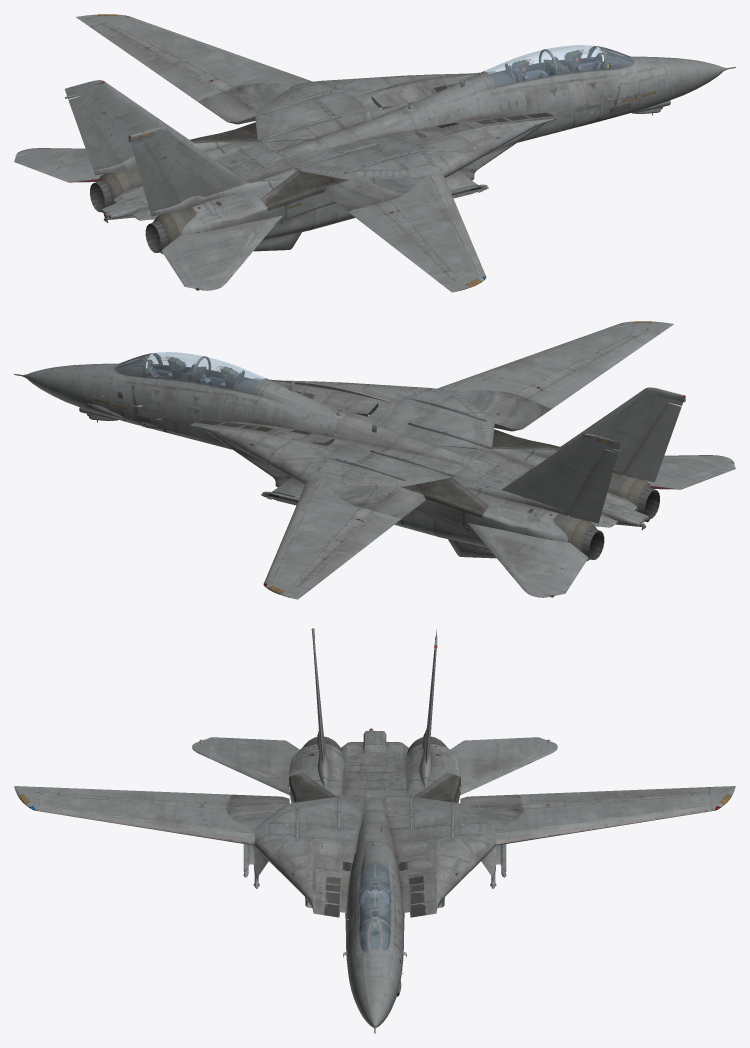
3 views of the same model, one above another, from view 1: azimuth 30°, elevation 25°; view 2: azimuth 150°, elevation 25°; view 3: azimuth 270°, elevation 25° (orthographic). The views are drawn at different scales.
Visible parts, largest first — view 1: Object_4, Object_6, Object_8; view 2: Object_4, Object_6, Object_8; view 3: Object_4, Object_8, Object_6.
Part boxes in pixels (left/top/right/bottom): Object_4: left=14, top=14, right=735, bottom=292; Object_6: left=484, top=45, right=633, bottom=86; Object_8: left=488, top=46, right=633, bottom=86; Object_4: left=14, top=321, right=735, bottom=599; Object_6: left=116, top=352, right=265, bottom=393; Object_8: left=116, top=353, right=261, bottom=393; Object_4: left=14, top=628, right=735, bottom=1033; Object_8: left=358, top=864, right=391, bottom=950; Object_6: left=358, top=864, right=391, bottom=950.
Size of the model in its own units: 192 by 45.39 by 195.
3 materials, 2 textured.
